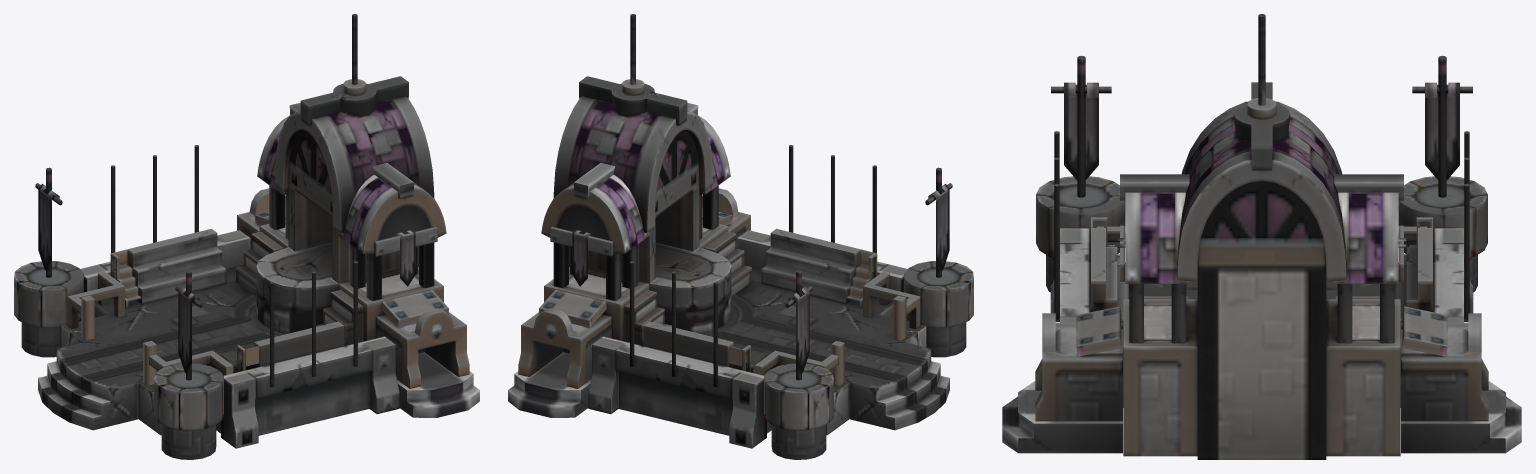
File: C_ClanHouse_LV0.fbx
3 renders of one model, left to right at view 1: azimuth 30°, elevation 25°; view 2: azimuth 150°, elevation 25°; view 3: azimuth 270°, elevation 25°, orthographic. The views are drawn at different scales.
Visible parts, largest first — view 1: Trading_inc_LVL00_Group_0_mesh; view 2: Trading_inc_LVL00_Group_0_mesh; view 3: Trading_inc_LVL00_Group_0_mesh.
Part boxes in pixels (bbox=[...]): Trading_inc_LVL00_Group_0_mesh: bbox=[14, 14, 479, 459]; Trading_inc_LVL00_Group_0_mesh: bbox=[508, 14, 973, 459]; Trading_inc_LVL00_Group_0_mesh: bbox=[1002, 14, 1521, 459].
Bounding box in the file's own units: 138 × 122 × 137.
